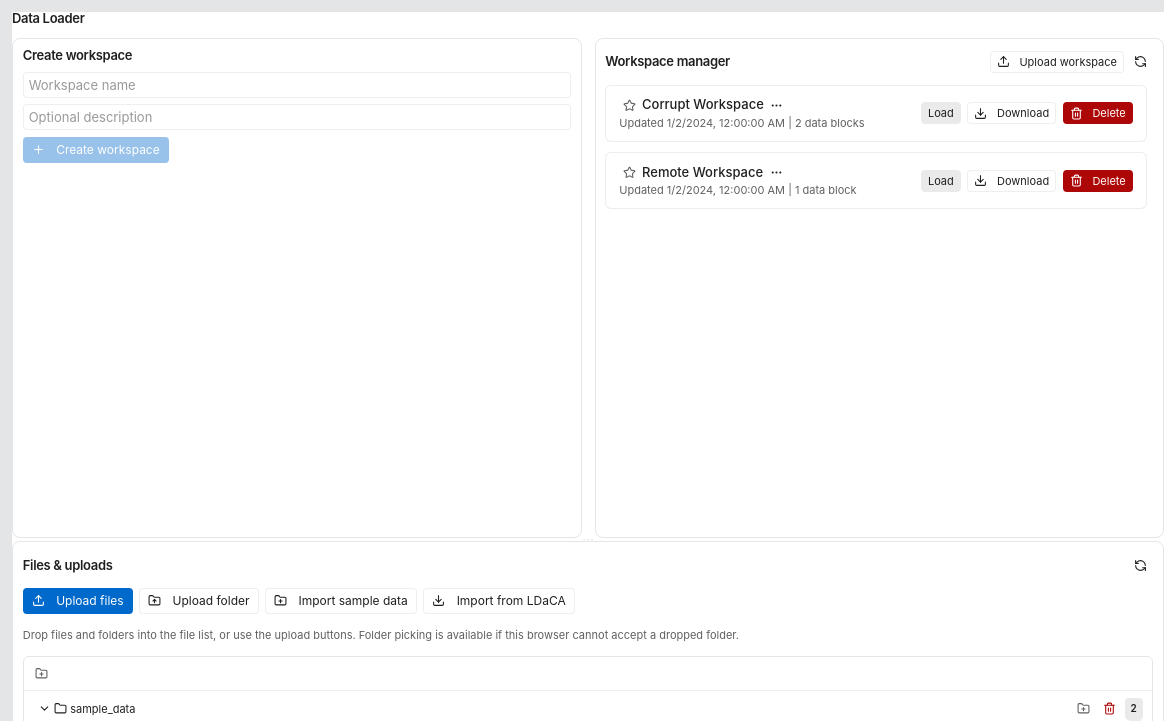
Test: DataLoaderFeature citation UI › keeps each workspace load failure visible until that workspace loads successfully
Click the button "Load" in the row of "Corrupt Workspace" at (941, 113), box [921,102,961,124]
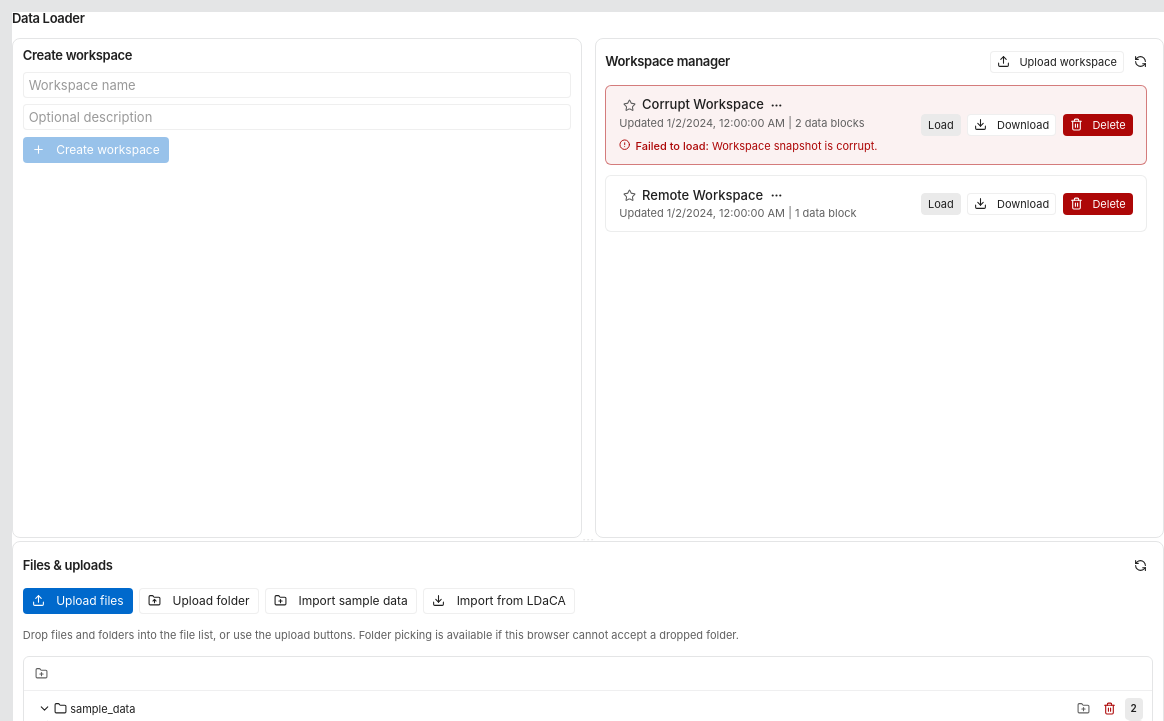
Expected: the message reads "Failed to load: Workspace snapshot is corrupt.", [619,138,878,154]
Click the button "Load" in the row of "Remote Workspace" at (941, 204), box [921,192,961,214]
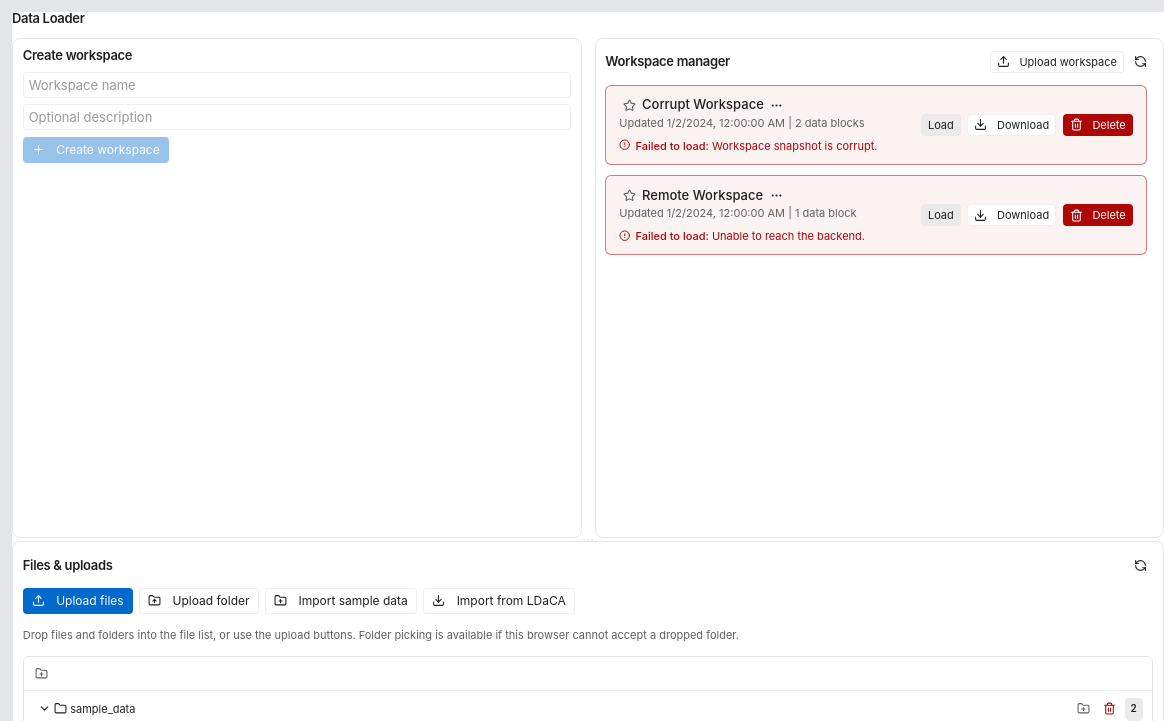
Expected: the message "Failed to load: Workspace snapshot is corrupt." is shown, [619,138,878,154]
Expected: the message "Failed to load: Unable to reach the backend." is shown, [619,228,865,244]
Click the button "Load" below "Corrupt Workspace" at (941, 125), box [921,114,961,136]
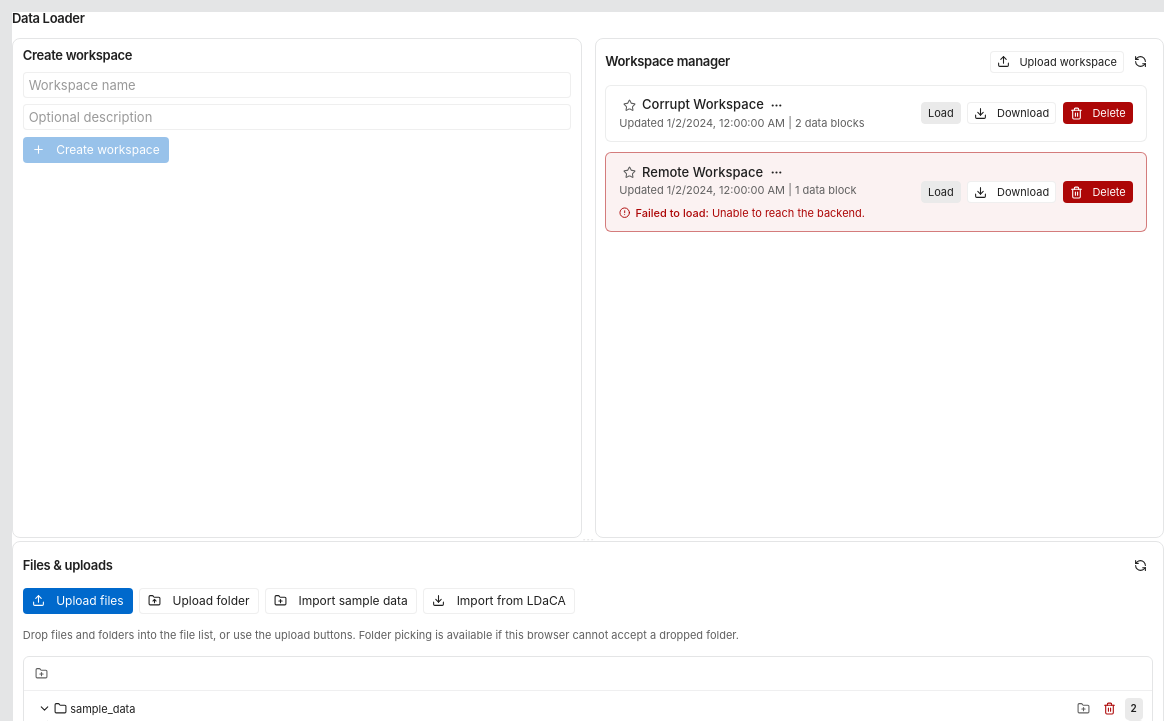
Expected: the message "Failed to load: Unable to reach the backend." is shown, [619,205,865,222]
Expected: the message "Failed to load: Workspace snapshot is corrupt." is gone
